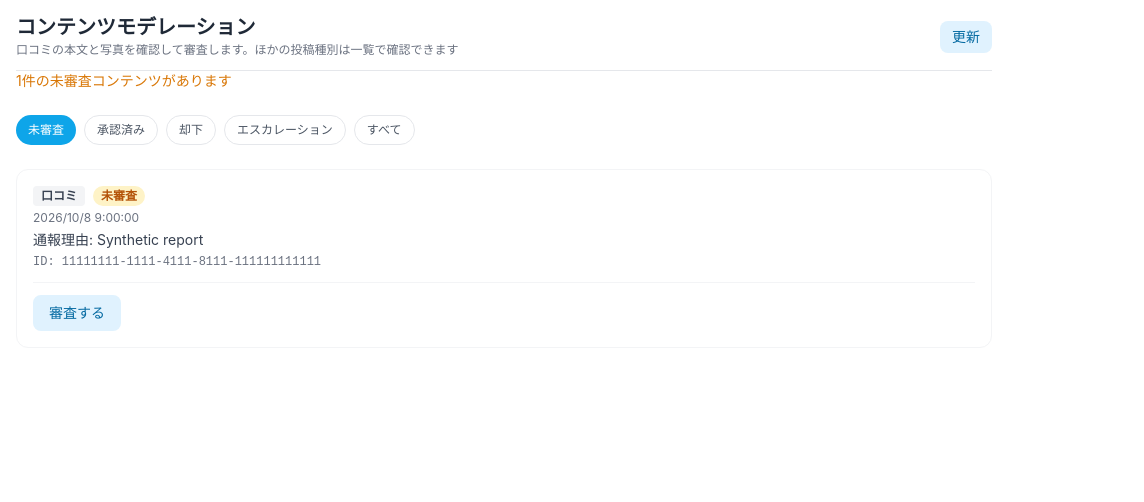
snapshot error failure cannot approve an unseen review
Click the button "審査する". click: coordinates (77, 313)
box: [33,295,121,331]
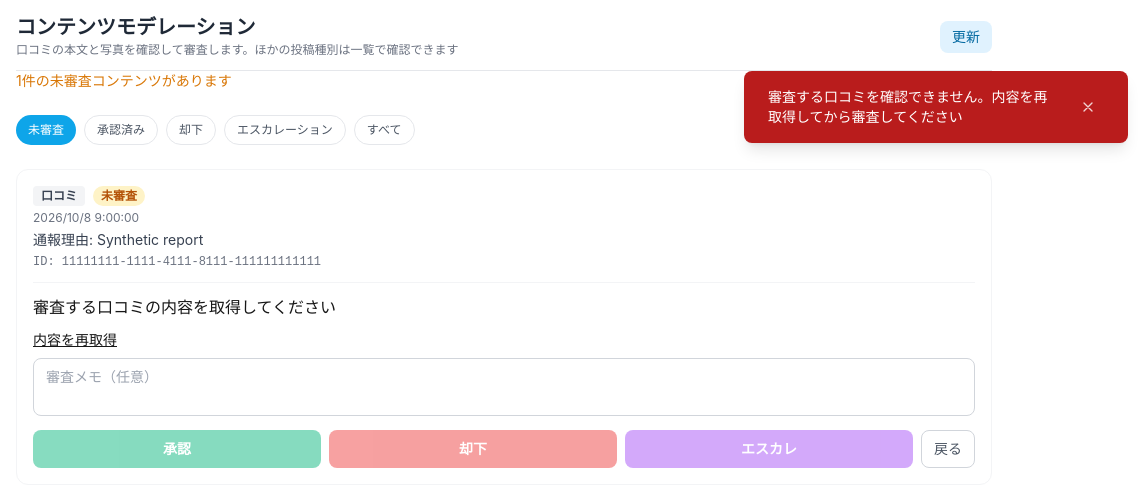
expect the button "内容を再取得" is enabled: met, box [33,330,117,350]
expect the text "審査する口コミを確認できません。内容を再取得してから審査してください" is shown: met, box [768,87,1060,127]
expect the button "承認" is disabled: met, box [33,430,321,468]
